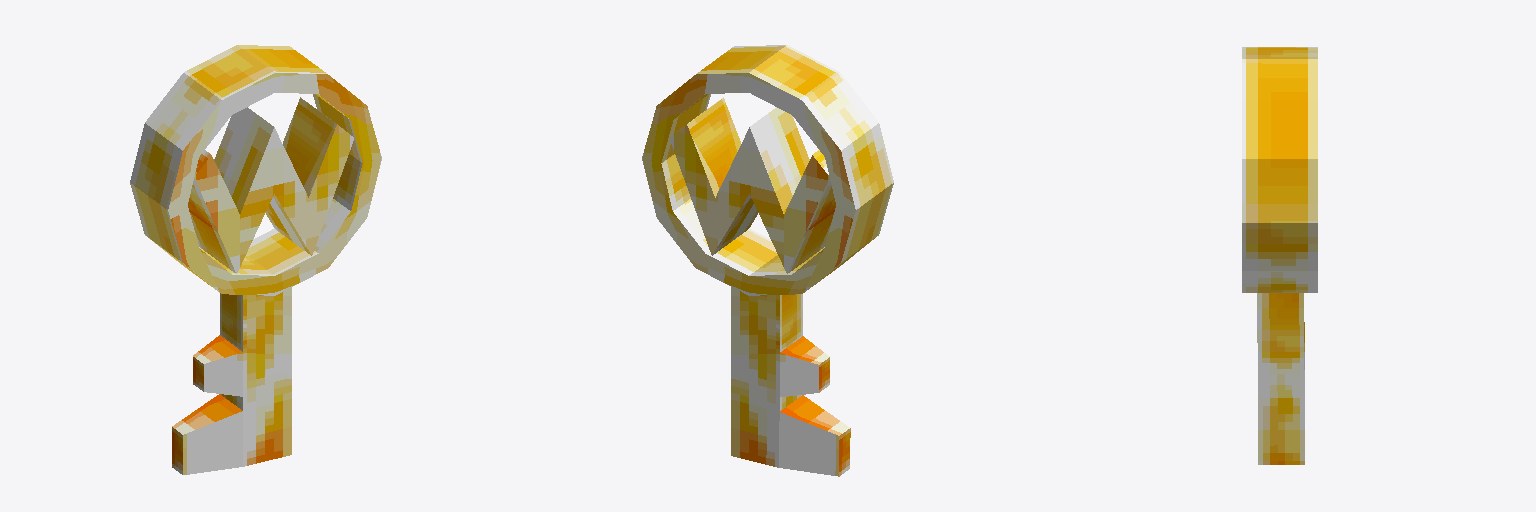
3 renders of one model, left to right at view 1: azimuth 30°, elevation 25°; view 2: azimuth 150°, elevation 25°; view 3: azimuth 270°, elevation 25°, orthographic.
Parts seen in each view (by area): view 1: wario_key; view 2: wario_key; view 3: wario_key.
Boxes of the visible parts, x1=… form: wario_key: x1=130, y1=45, x2=381, y2=474; wario_key: x1=642, y1=45, x2=893, y2=476; wario_key: x1=1242, y1=47, x2=1317, y2=464.
Size of the model in its own units: 4.03 by 7.1 by 1.25.
1 materials, 1 textured.